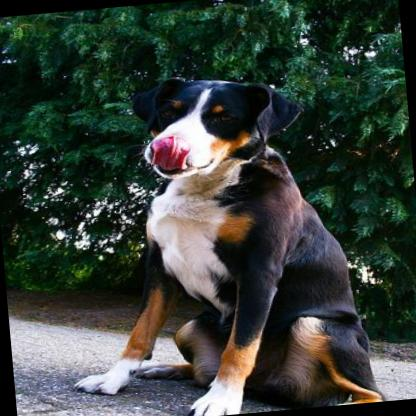Appenzeller: (45, 57, 381, 416)
